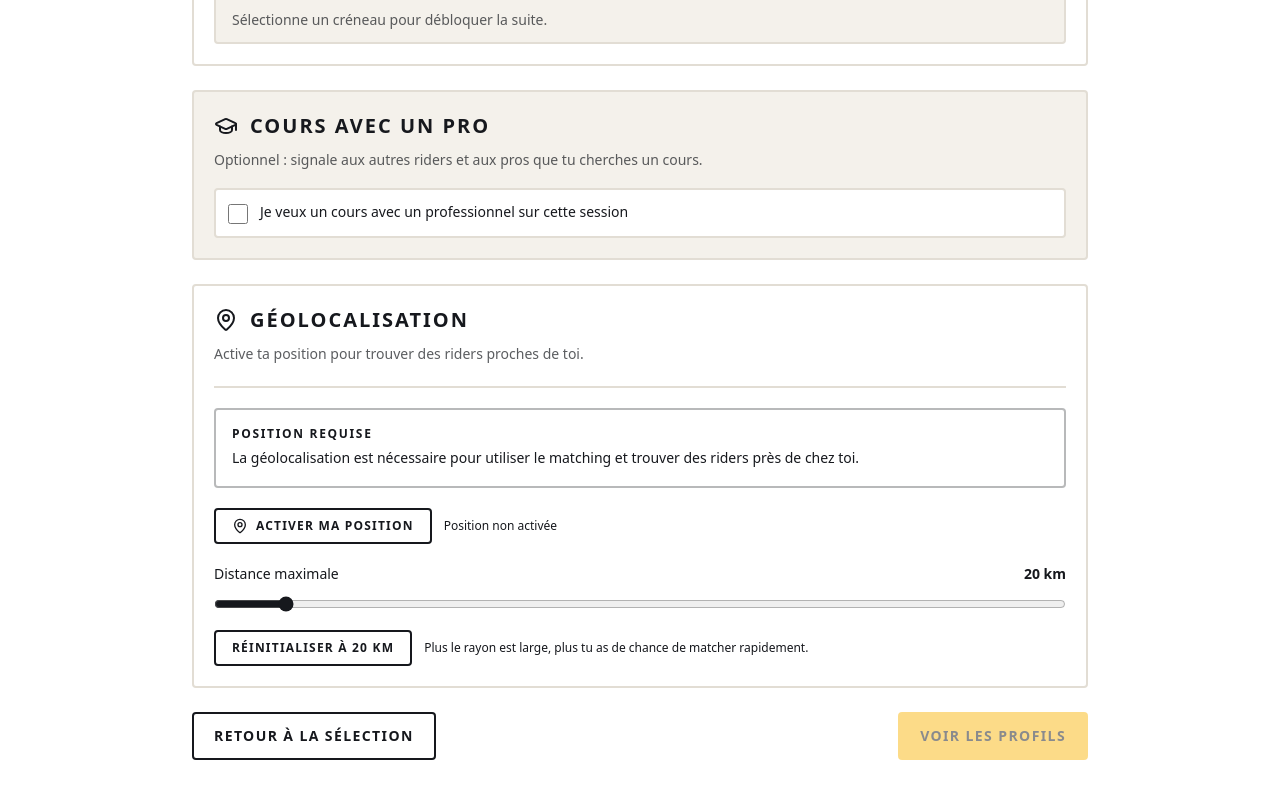
Test: Matching date step › shows a neutral geolocation state without logging the browser error
This screenshot has width=1280, height=800.
(page scrolled)
Click the button "Activer ma position". click: (323,526)
box: [214, 508, 432, 544]
(page scrolled)
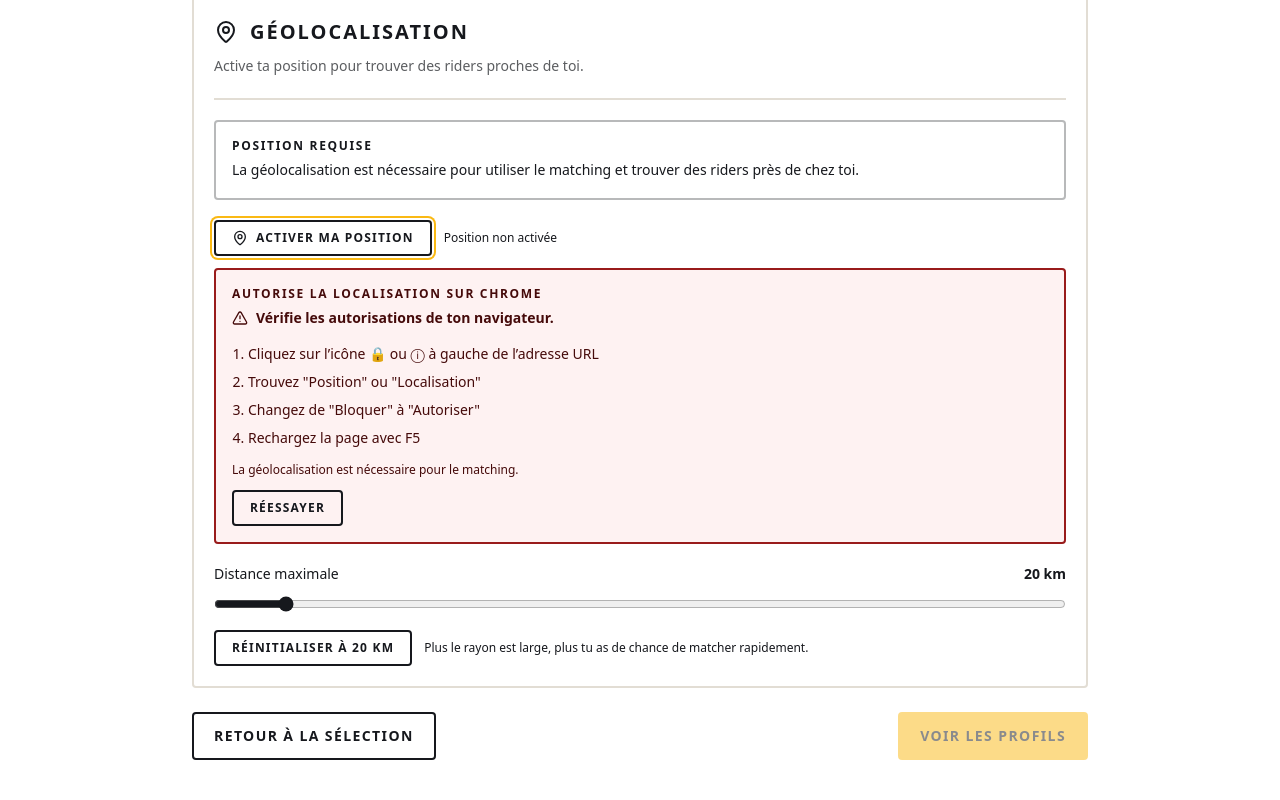
Expected: the message shows "Vérifie les autorisations de ton navigateur.", [256, 308, 554, 327]
